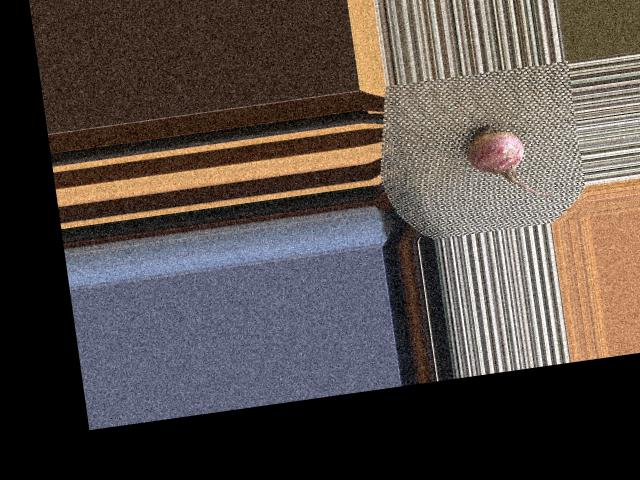beet: (462, 116, 555, 207)
